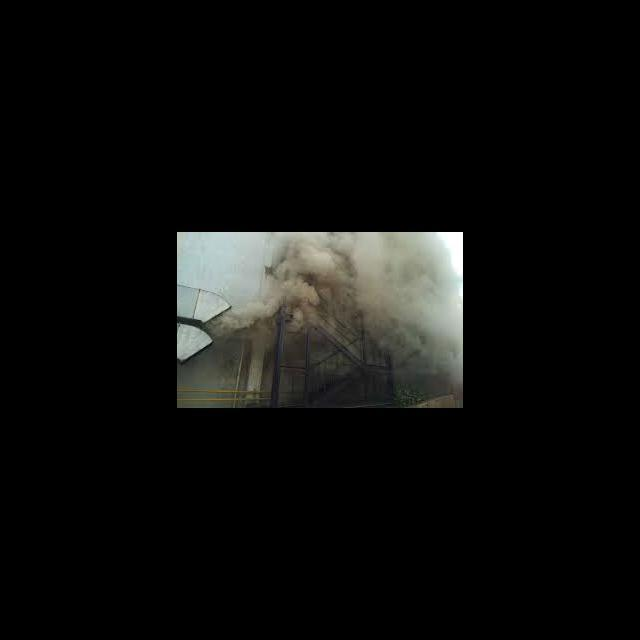Smoke: (222, 232, 460, 394)
